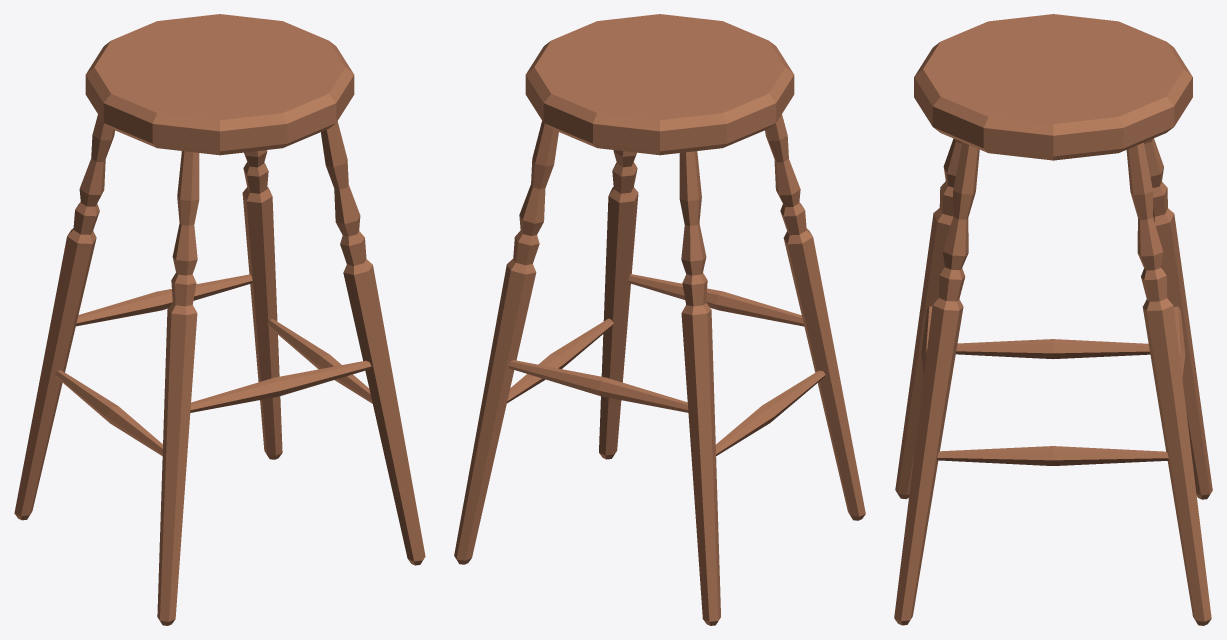
Rendered from Stool.glb.
3 renders of one model, left to right at view 1: azimuth 30°, elevation 25°; view 2: azimuth 150°, elevation 25°; view 3: azimuth 270°, elevation 25°, orthographic. The views are drawn at different scales.
Visible parts, largest first — view 1: Stool; view 2: Stool; view 3: Stool.
Part boxes in pixels (x1,y1,x2,y2): Stool: (14,14,425,625); Stool: (454,14,865,625); Stool: (894,14,1212,625).
Bounding box in the file's own units: 0.2128 × 0.3619 × 0.2128.
Materials: 1 (1 with a texture image).
